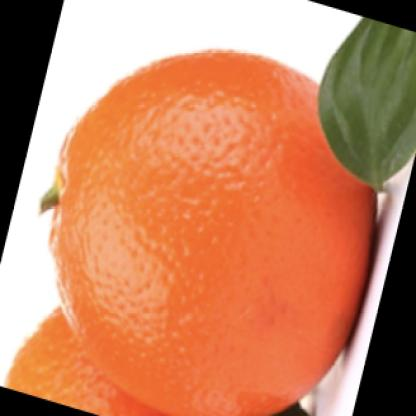fresh: (47, 48, 377, 416)
